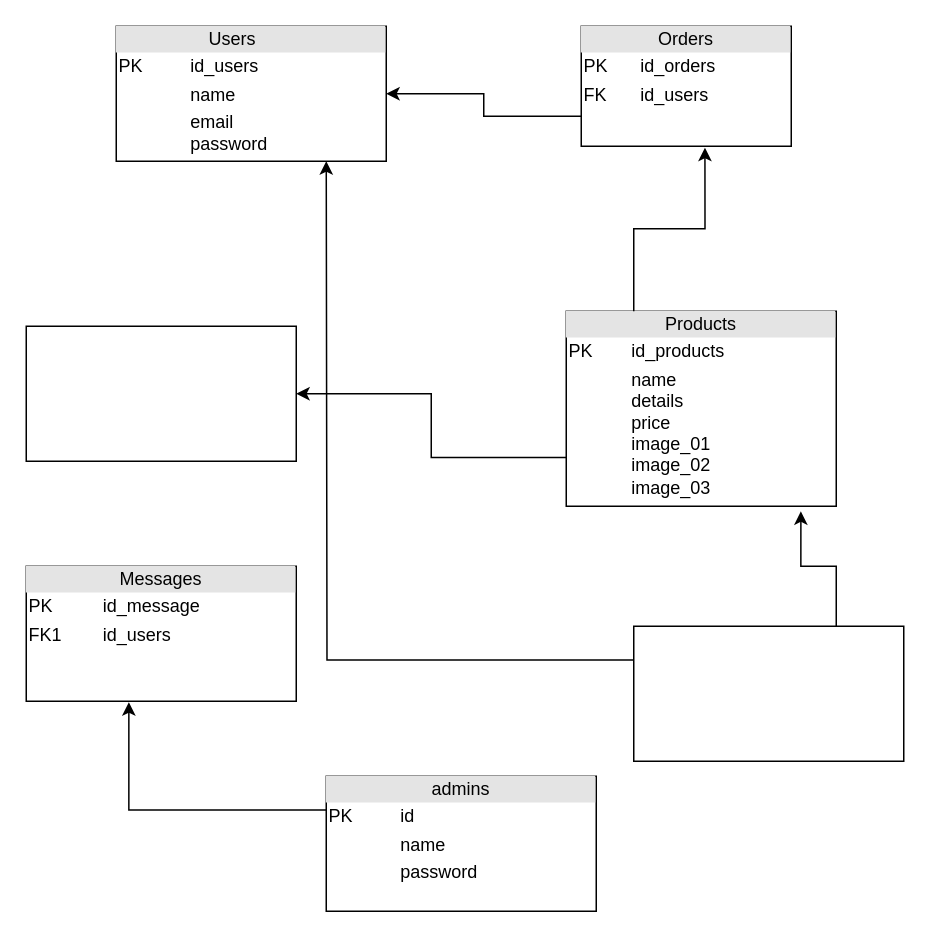
Some shapes in this 930 by 938 pixel diagram are drawn without their labels. Each missing label, with the centre of its shape:
"Cart PK id_cart FK1 id_users FK2 id-products" goes at point (160, 393).
"wishlist PK id FK1 id_users FK2 id_products" goes at point (768, 693).
